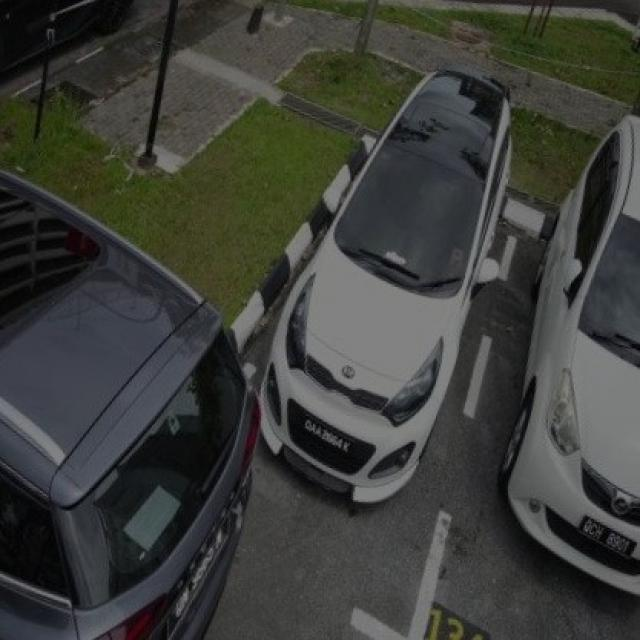Legalparking: (266, 71, 510, 502), (500, 117, 638, 594)
illegalparking: (0, 170, 259, 638)
